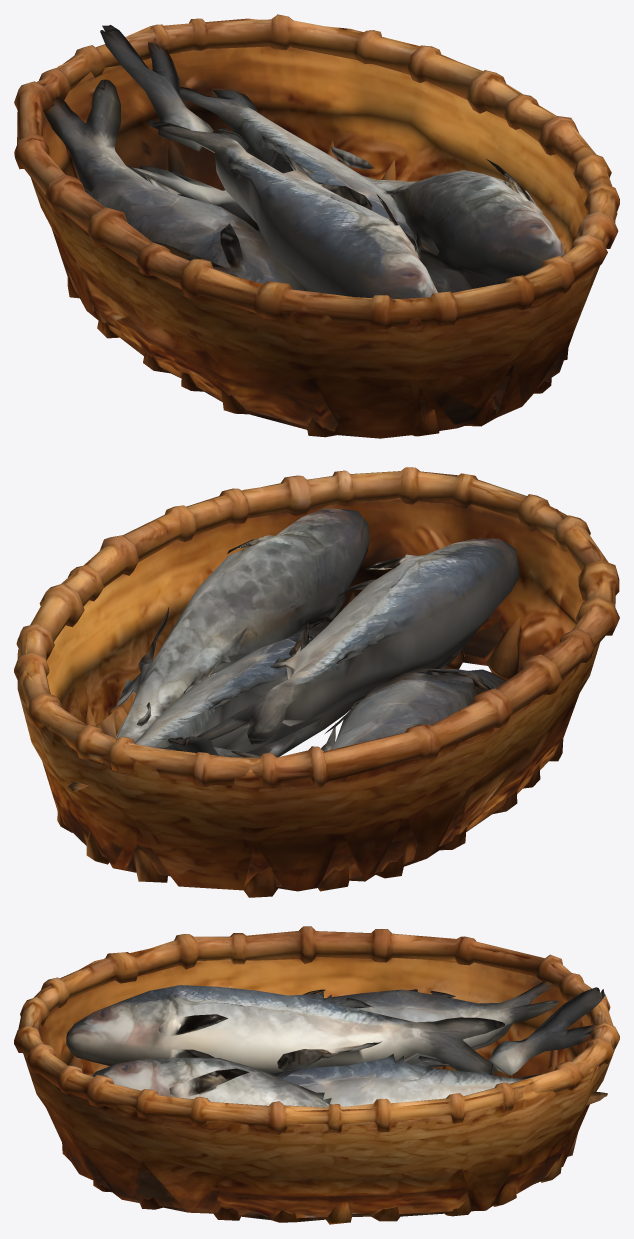
3 views of the same model, one above another, from view 1: azimuth 30°, elevation 25°; view 2: azimuth 150°, elevation 25°; view 3: azimuth 270°, elevation 25° (orthographic). The views are drawn at different scales.
Visible parts, largest first — view 1: tripo_node_99d6aa30-de02-46b8-b328-adcead25b44c; view 2: tripo_node_99d6aa30-de02-46b8-b328-adcead25b44c; view 3: tripo_node_99d6aa30-de02-46b8-b328-adcead25b44c.
Boxes of the visible parts, <box> form: tripo_node_99d6aa30-de02-46b8-b328-adcead25b44c: <box>14,14,619,438</box>; tripo_node_99d6aa30-de02-46b8-b328-adcead25b44c: <box>14,467,619,897</box>; tripo_node_99d6aa30-de02-46b8-b328-adcead25b44c: <box>14,926,619,1224</box>.
Size of the model in its own units: 0.7402 by 0.2715 by 0.998.
Materials: 1 (1 with a texture image).
